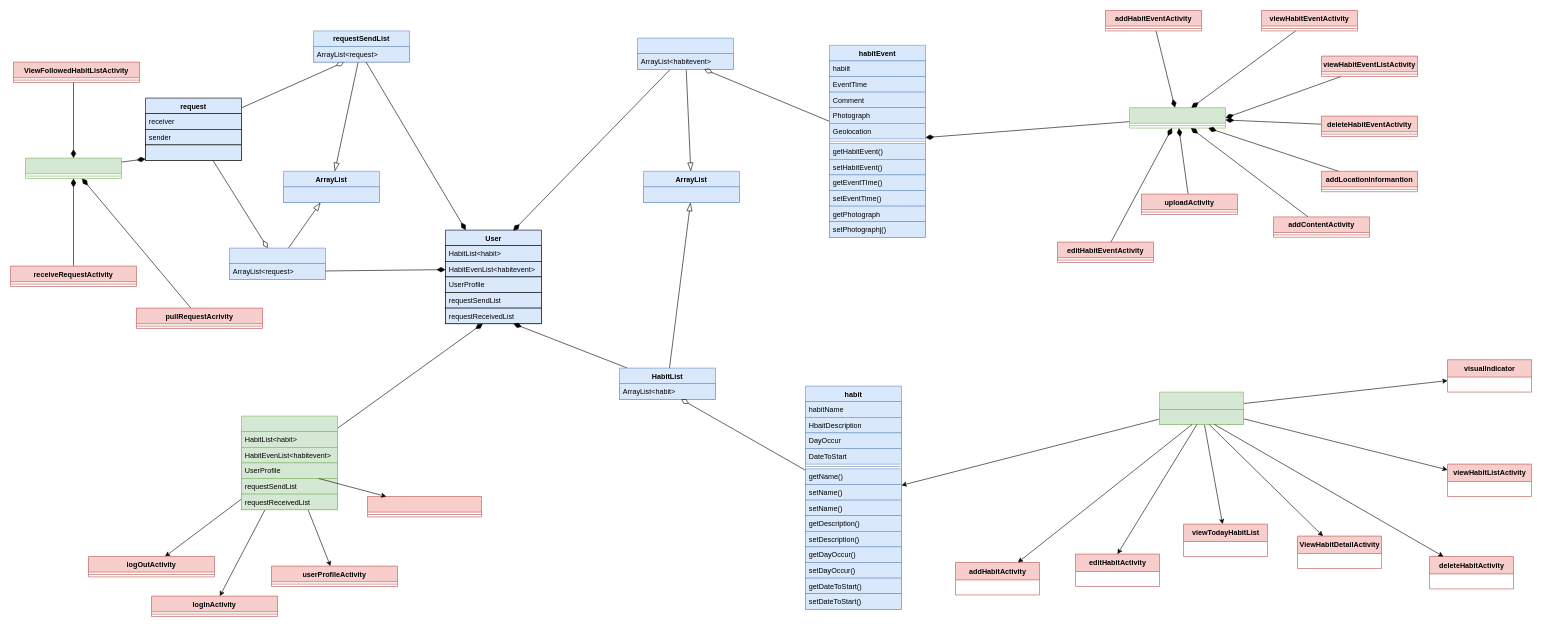
The diagram is 1542 pixels wide and 627 high, and some of its shapes have lost their labels. Each missing label, with the box of its shape:
addFollowedHabitActivity: (367, 496, 482, 517)
habitAdapter: (1159, 392, 1244, 424)
habitEventAdapter: (1129, 107, 1226, 128)
HabitEventList: (637, 38, 734, 69)
requestAdapter: (25, 158, 122, 178)
requestReceiveList: (229, 248, 326, 279)
requestStatus: (145, 144, 242, 160)
userAdapter: (241, 416, 338, 510)
